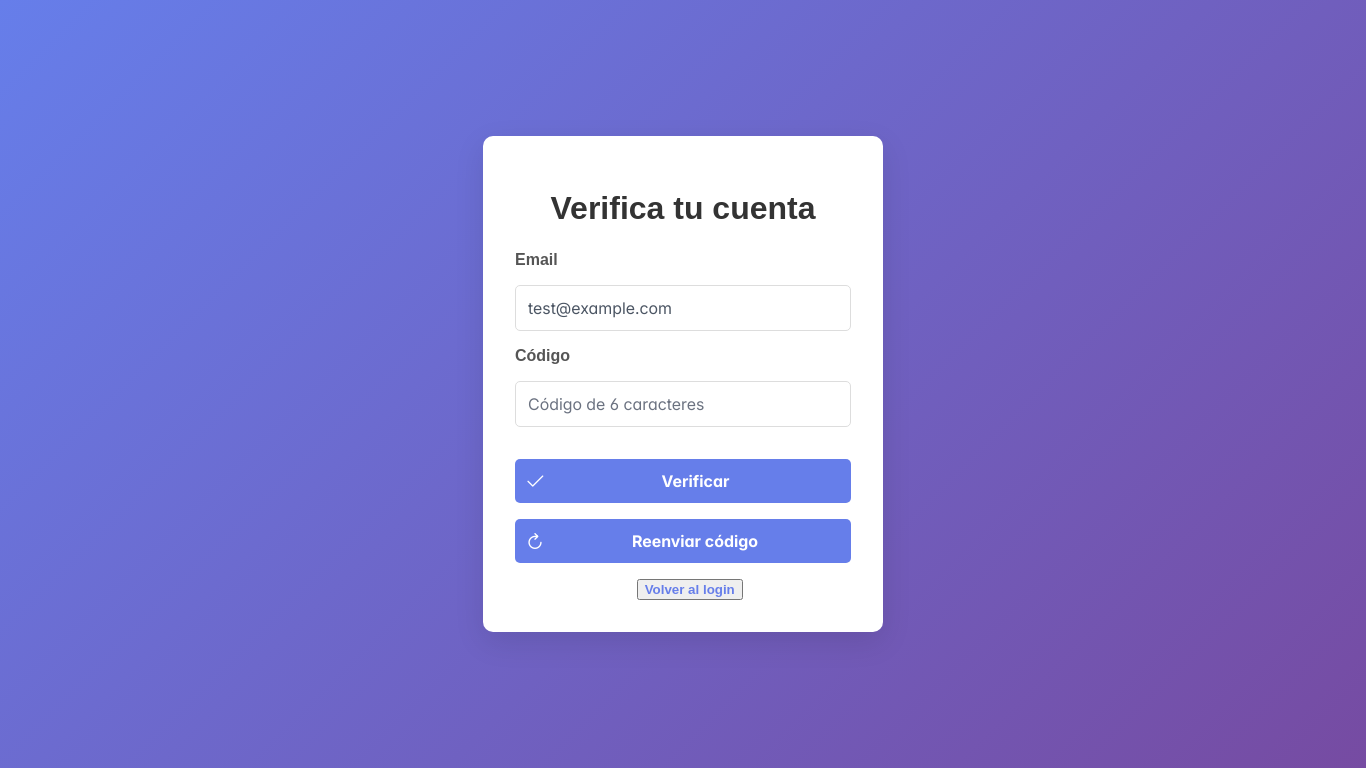
Test: Verify Component › shows warning on verify with code less than 6 characters
Type "123" into the field with placeholder "Código de 6 caracteres" at (683, 404), box x1=515 y1=381 x2=851 y2=427
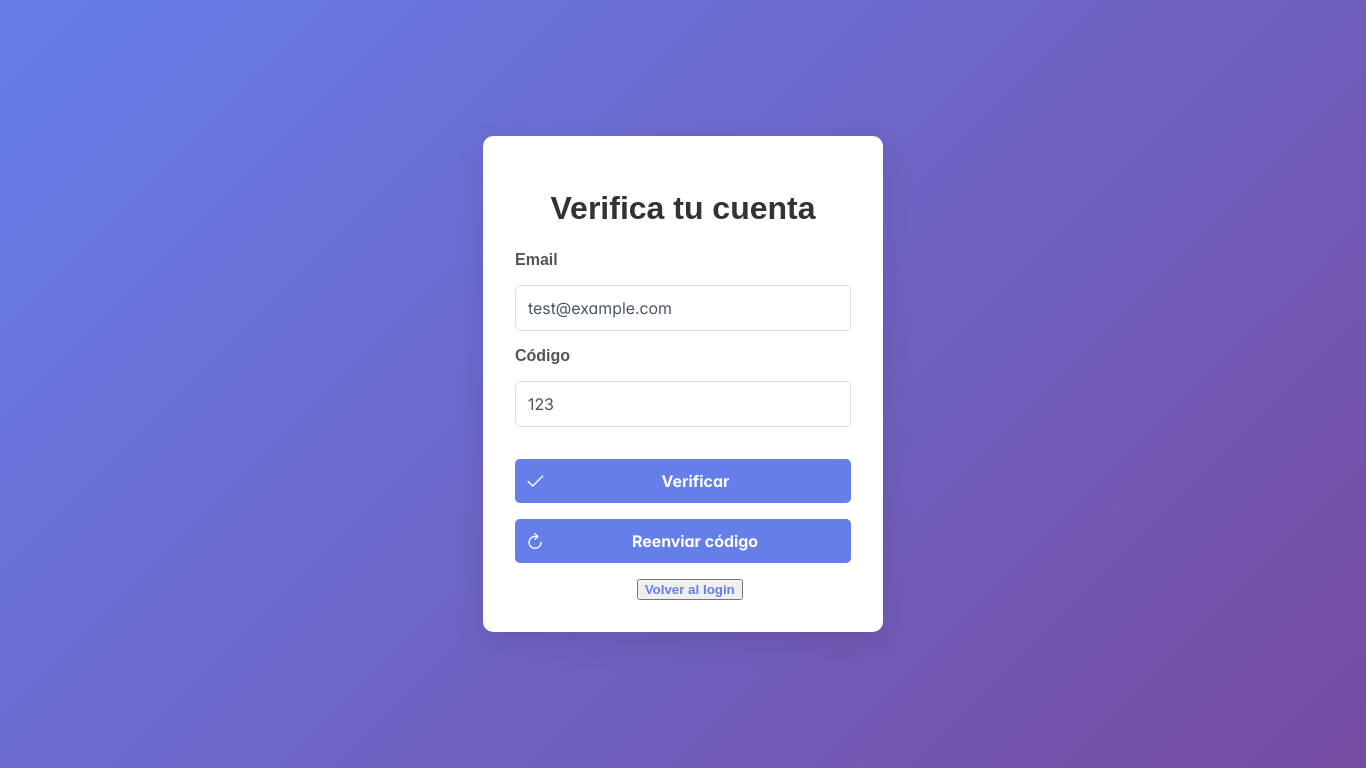
Click the button "Verificar" at (683, 481), box x1=515 y1=459 x2=851 y2=503
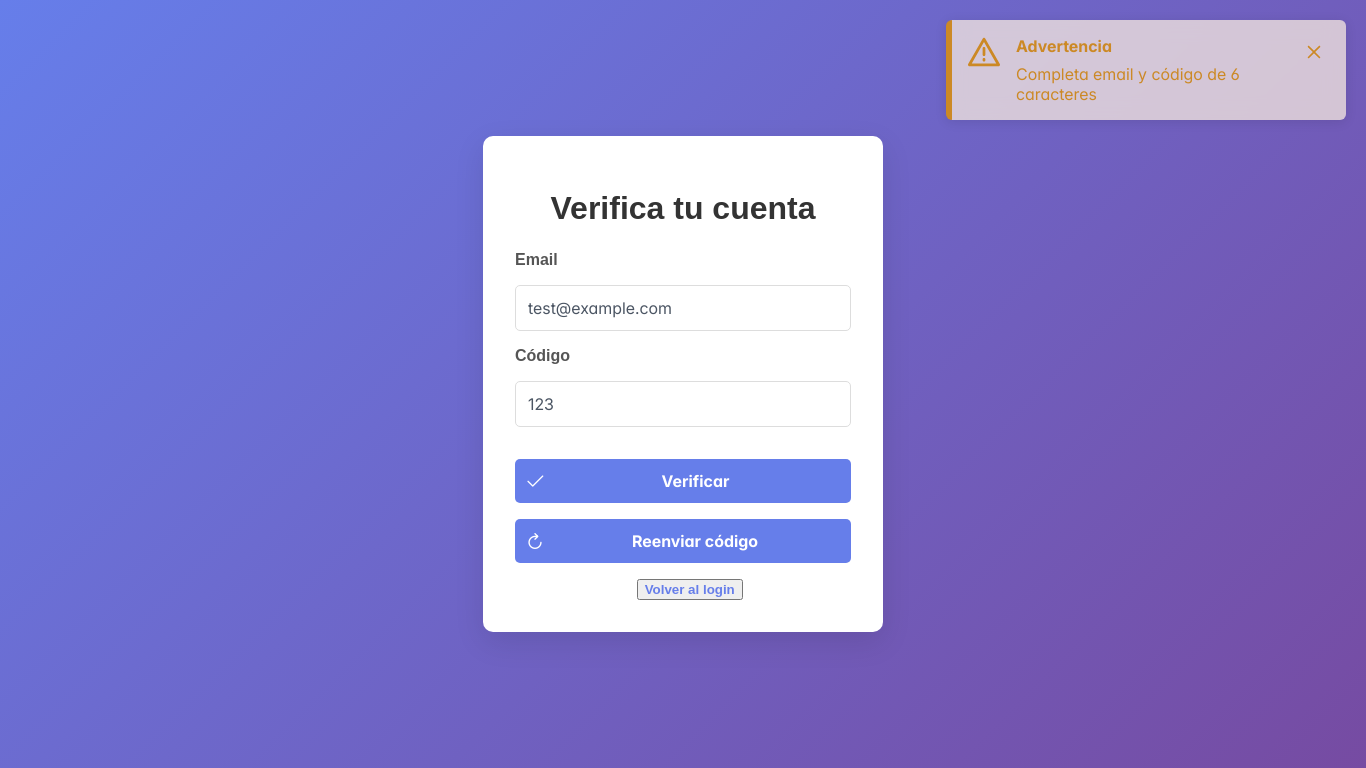
Expected: the text "Completa email y código de 6 caracteres" is shown, x1=1016 y1=64 x2=1240 y2=104
